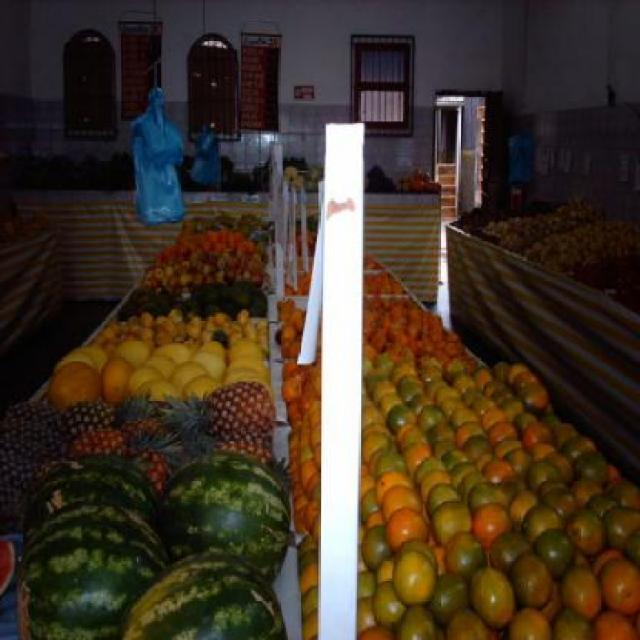Watermelon: (16, 503, 156, 640), (161, 450, 294, 587), (122, 550, 290, 638), (20, 454, 158, 534)
